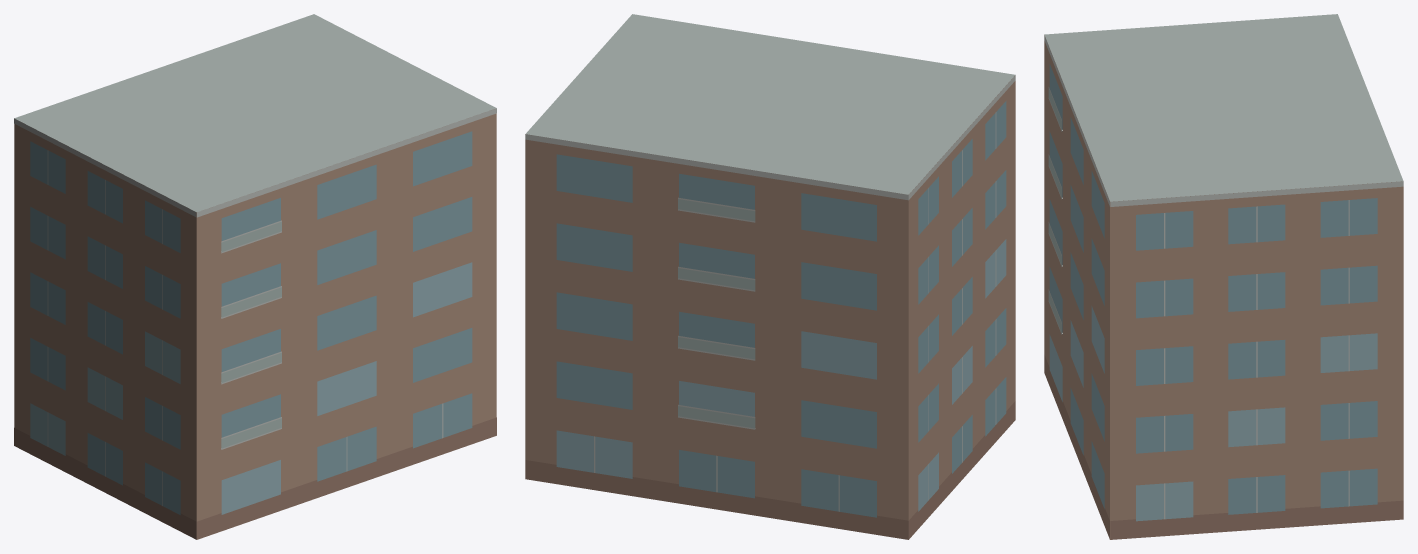
File: survey-upis-32720584.glb
The picture shows the model from 3 angles, left to right: view 1: azimuth 30°, elevation 25°; view 2: azimuth 150°, elevation 25°; view 3: azimuth 270°, elevation 25°; orthographic projection. The views are drawn at different scales.
Visible parts, largest first — view 1: survey-upis-32720584.tmp; view 2: survey-upis-32720584.tmp; view 3: survey-upis-32720584.tmp.
Boxes of the visible parts, x1,y1,x2,y2 form: survey-upis-32720584.tmp: (14, 14, 496, 539); survey-upis-32720584.tmp: (525, 14, 1015, 539); survey-upis-32720584.tmp: (1044, 14, 1403, 539).
Bounding box in the file's own units: 18.16 × 15.25 × 14.69.
